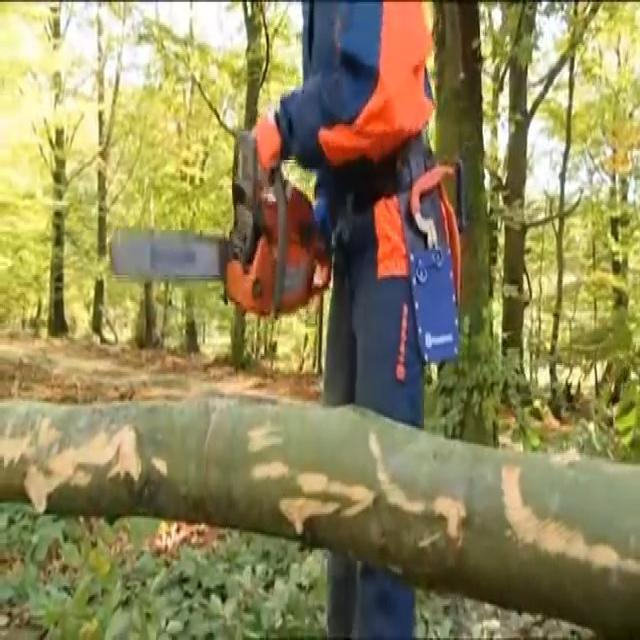Chainsaw: (104, 117, 340, 326)
